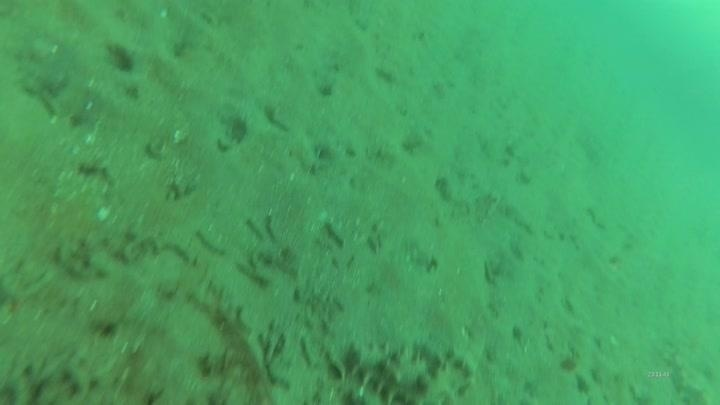holothurian: (337, 335, 474, 405)
